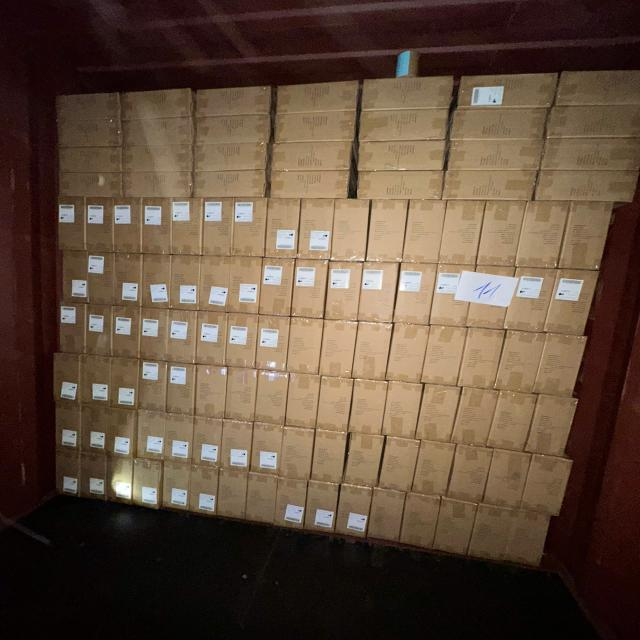Carton: (558, 198, 612, 269), (454, 72, 556, 109), (546, 268, 601, 336), (538, 135, 638, 172), (534, 171, 637, 206), (520, 198, 571, 268), (547, 105, 640, 142), (538, 332, 590, 398), (448, 110, 547, 144), (362, 76, 456, 111), (466, 502, 519, 564), (520, 453, 572, 515), (530, 394, 580, 457), (480, 200, 527, 267), (510, 269, 558, 334), (558, 68, 640, 106), (446, 139, 543, 171), (444, 172, 537, 205), (360, 112, 452, 145), (469, 266, 515, 332), (503, 506, 552, 567), (500, 330, 546, 394), (358, 140, 449, 171), (490, 389, 534, 452), (192, 84, 273, 118), (277, 80, 363, 112), (432, 263, 474, 327), (273, 113, 357, 145), (486, 448, 530, 509), (454, 388, 498, 449), (358, 174, 447, 204), (440, 200, 480, 266), (119, 86, 196, 120), (463, 328, 505, 390), (427, 325, 468, 387), (448, 444, 491, 503), (270, 141, 354, 171), (437, 498, 478, 559), (368, 200, 407, 264), (406, 200, 444, 264), (271, 170, 352, 200), (398, 263, 436, 326), (334, 198, 370, 263), (401, 494, 441, 552), (120, 115, 194, 146), (391, 325, 429, 385), (51, 90, 122, 122), (419, 384, 458, 442), (362, 262, 398, 324), (193, 169, 267, 199), (120, 142, 194, 172), (193, 142, 269, 171), (415, 440, 454, 496), (382, 378, 418, 438), (354, 323, 390, 383), (195, 114, 272, 142), (120, 173, 193, 202), (300, 199, 334, 261), (328, 262, 363, 322), (381, 438, 419, 493), (266, 200, 300, 261), (233, 198, 268, 257), (370, 489, 406, 546), (292, 259, 326, 319), (323, 321, 357, 380), (289, 319, 324, 376), (350, 377, 385, 434), (337, 487, 372, 542), (262, 259, 295, 317), (170, 198, 203, 256), (318, 376, 352, 432), (55, 120, 123, 148), (347, 432, 382, 486), (286, 373, 319, 429), (58, 145, 124, 173), (56, 172, 124, 199), (203, 198, 234, 257), (258, 317, 291, 372), (231, 258, 262, 316), (313, 430, 346, 484), (306, 483, 338, 538), (282, 428, 314, 482), (258, 370, 290, 424), (275, 478, 307, 532), (200, 257, 230, 314), (228, 315, 259, 370), (198, 313, 229, 368), (82, 355, 114, 408), (142, 200, 171, 258), (112, 198, 142, 254), (251, 424, 282, 478), (228, 367, 258, 422), (197, 366, 228, 419), (223, 421, 254, 474), (246, 474, 277, 527), (168, 310, 198, 364), (144, 256, 174, 310), (87, 198, 116, 253), (58, 198, 87, 252), (217, 470, 247, 522), (110, 307, 140, 359), (162, 463, 192, 515), (54, 352, 84, 404), (172, 257, 200, 312), (140, 310, 169, 363), (168, 363, 197, 416), (58, 303, 88, 354), (54, 402, 84, 453), (189, 467, 218, 519), (134, 461, 164, 511), (114, 255, 142, 308), (113, 358, 141, 411), (62, 252, 90, 305), (194, 419, 223, 470), (139, 360, 167, 412), (88, 254, 116, 306), (137, 410, 166, 460), (110, 408, 139, 458), (166, 416, 195, 466), (82, 404, 111, 454), (81, 454, 110, 504), (55, 452, 83, 501), (88, 305, 114, 356), (107, 459, 134, 508)
